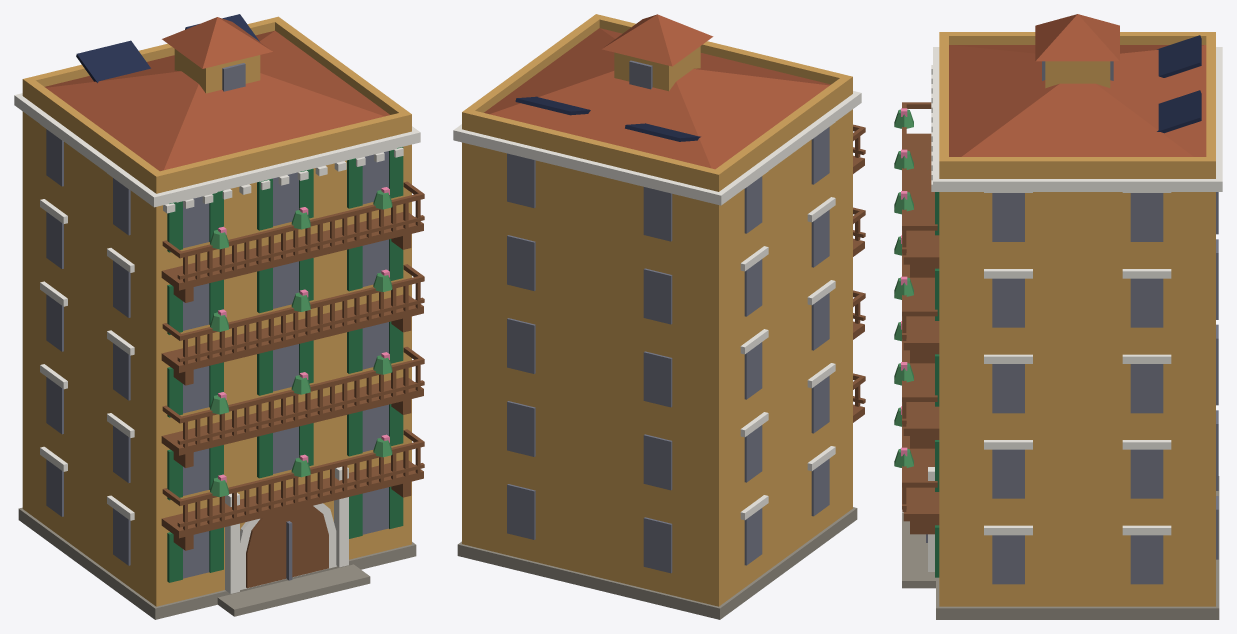
Rendered from house-1x1-5f-colonial-a-solar.glb.
The picture shows the model from 3 angles, left to right: view 1: azimuth 30°, elevation 25°; view 2: azimuth 150°, elevation 25°; view 3: azimuth 270°, elevation 25°; orthographic projection. The views are drawn at different scales.
Parts seen in each view (by area): view 1: house-1x1-5f-colonial-a-solar; view 2: house-1x1-5f-colonial-a-solar; view 3: house-1x1-5f-colonial-a-solar.
Boxes of the visible parts, left/top/right/bottom form: house-1x1-5f-colonial-a-solar: left=14, top=14, right=424, bottom=619; house-1x1-5f-colonial-a-solar: left=453, top=14, right=865, bottom=619; house-1x1-5f-colonial-a-solar: left=894, top=14, right=1222, bottom=619.
Size of the model in its own units: 0.98 by 1.83 by 1.01.
1 material, 1 textured.
